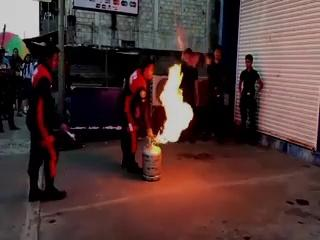Fire: (153, 52, 194, 147)
